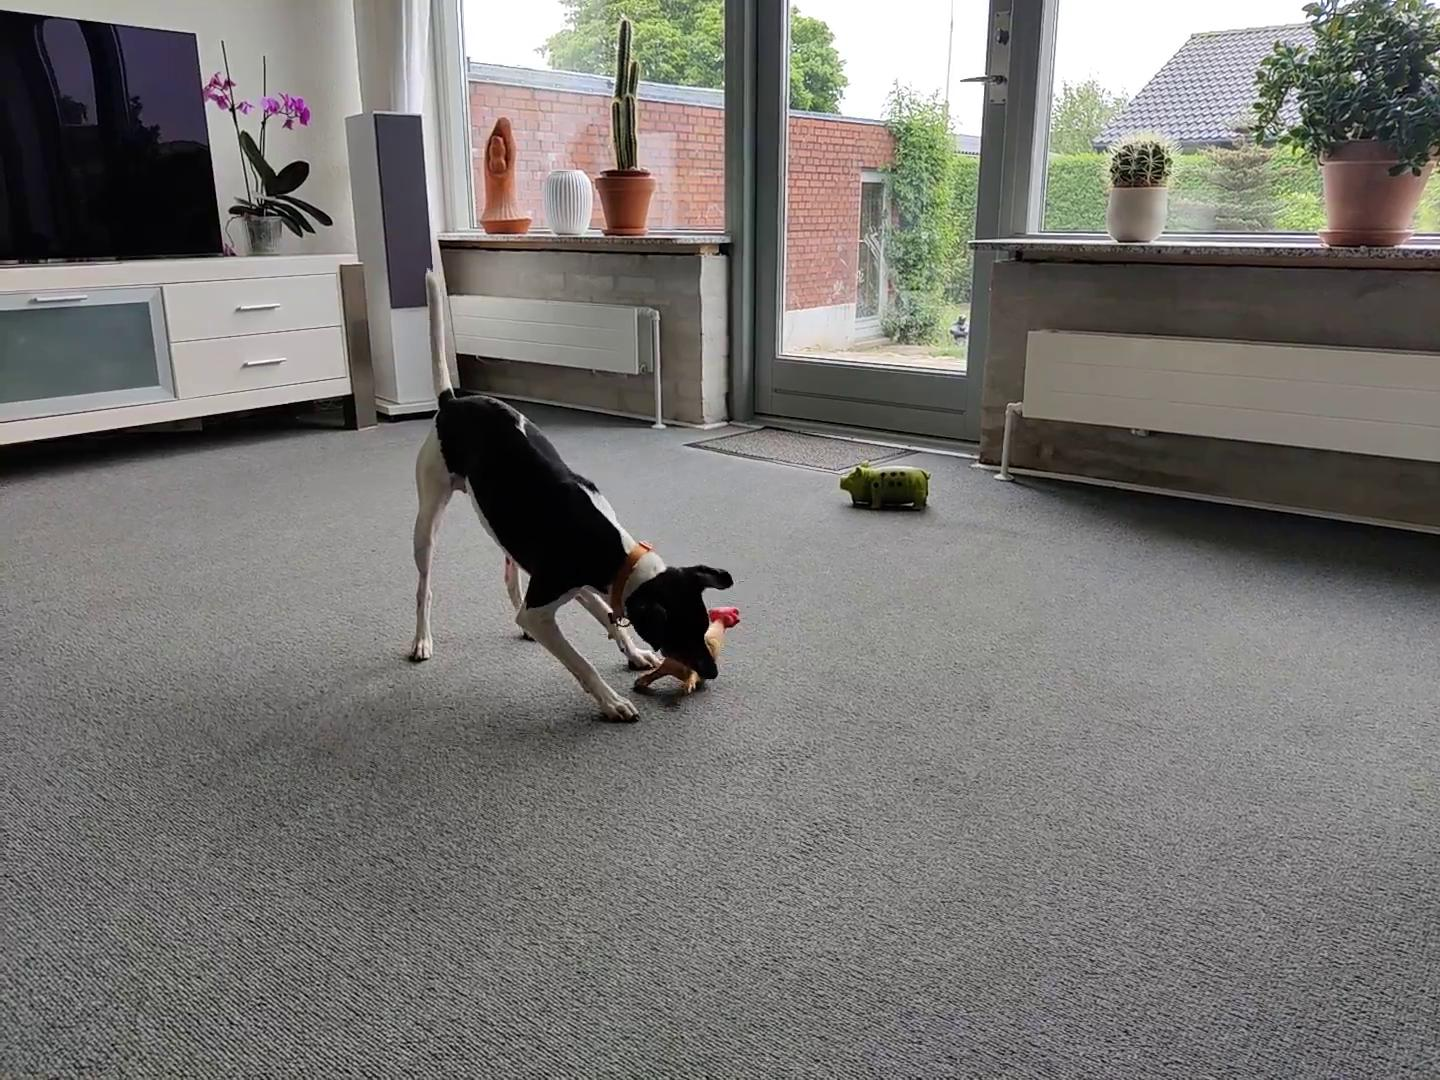Dog: (405, 264, 735, 722)
